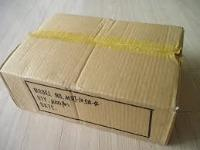undamaged: (0, 6, 185, 148)
